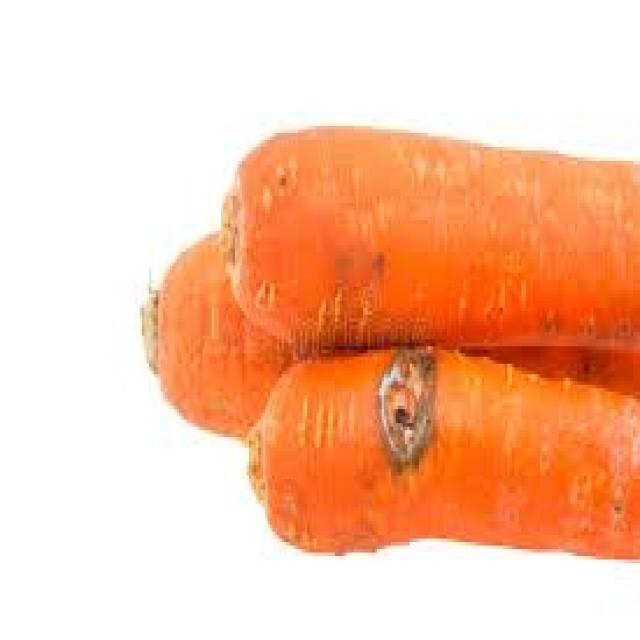Stale_Carrot: (272, 234, 516, 472), (365, 339, 527, 527)
